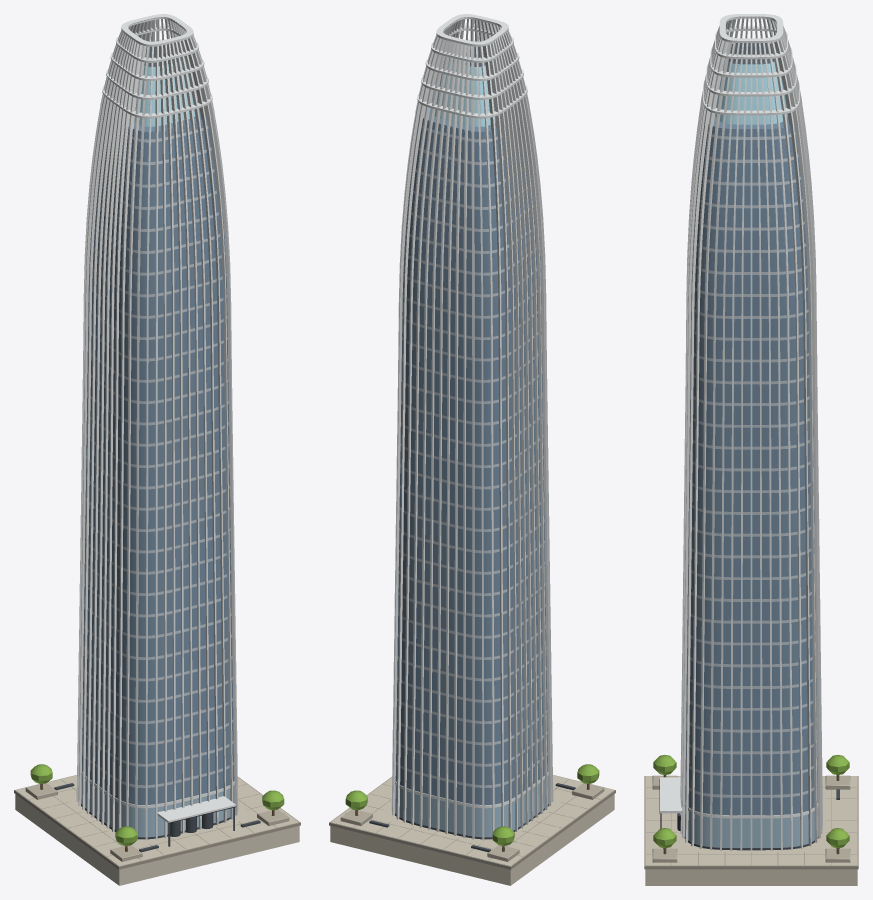
Rendered from salesfarce_tower.glb.
The picture shows the model from 3 angles, left to right: view 1: azimuth 30°, elevation 25°; view 2: azimuth 150°, elevation 25°; view 3: azimuth 270°, elevation 25°; orthographic projection. The views are drawn at different scales.
Visible parts, largest first — view 1: tower, plaza, crown; view 2: tower, plaza, crown; view 3: tower, plaza, crown.
Part boxes in pixels (x1,y1,x2,y2): tower: (76,100,238,846); plaza: (14,764,300,885); crown: (100,14,214,133); tower: (391,100,553,840); plaza: (329,764,615,885); crown: (415,14,529,133); tower: (659,104,822,850); plaza: (644,755,858,885); crown: (700,14,802,130).
Bounding box in the file's own units: 40.4 × 169 × 40.4.
